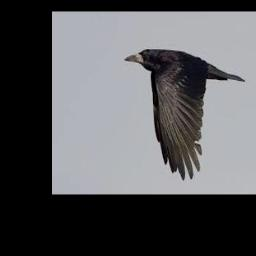Crow: (123, 49, 244, 178)
